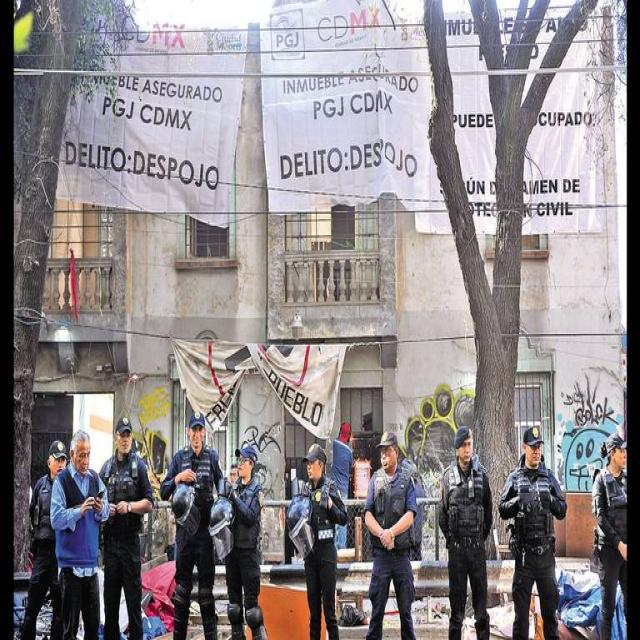stamps: (260, 2, 594, 226), (416, 5, 604, 234), (56, 17, 245, 221), (258, 2, 418, 208)
